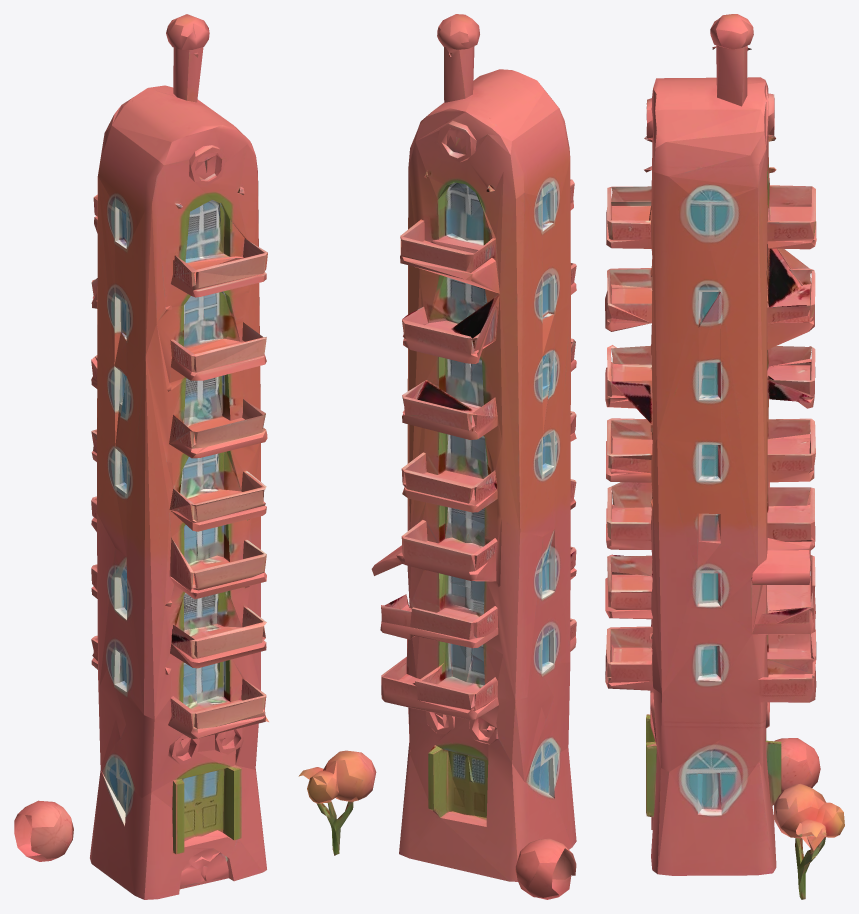
Rendered from home.glb.
The picture shows the model from 3 angles, left to right: view 1: azimuth 30°, elevation 25°; view 2: azimuth 150°, elevation 25°; view 3: azimuth 270°, elevation 25°; orthographic projection.
Parts seen in each view (by area): view 1: Mesh_0.001; view 2: Mesh_0.001; view 3: Mesh_0.001.
Part boxes in pixels (x1=…): Mesh_0.001: x1=14, y1=14, x2=268, y2=899; Mesh_0.001: x1=298, y1=14, x2=576, y2=899; Mesh_0.001: x1=605, y1=14, x2=844, y2=899.
Bounding box in the file's own units: 0.6087 × 1.9 × 0.4909.
1 material, 1 textured.
